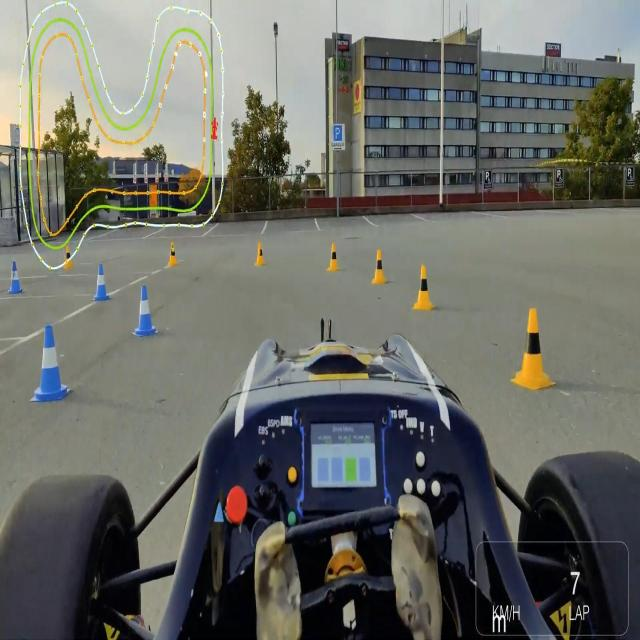blue_cone: (32, 320, 68, 401), (134, 284, 156, 338), (93, 265, 111, 303), (8, 258, 24, 296)
yellow_cone: (515, 310, 551, 391), (415, 262, 436, 310), (374, 248, 386, 284), (327, 242, 340, 272), (256, 239, 266, 267), (168, 240, 178, 268), (64, 244, 74, 272)
